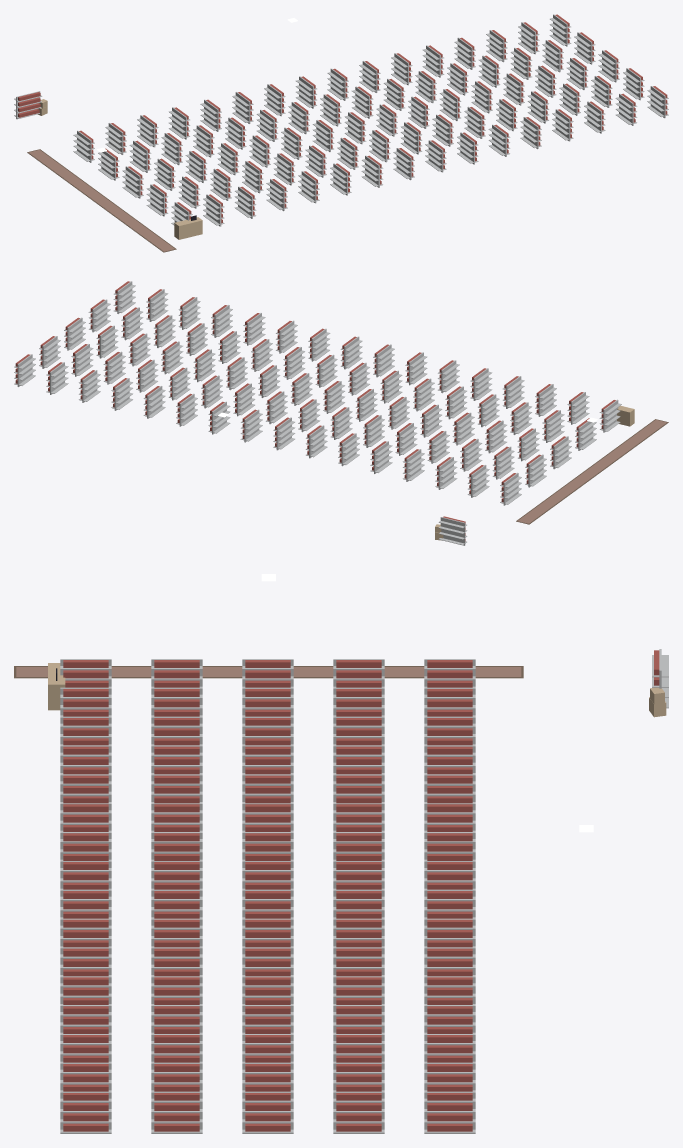
The model's file is fine-s0.glb.
3 renders of one model, top to bottom at view 1: azimuth 30°, elevation 25°; view 2: azimuth 150°, elevation 25°; view 3: azimuth 270°, elevation 25°, orthographic. The views are drawn at different scales.
Visible parts, largest first — view 1: soft-s0, shelving.000, shop-counter.000, shelf.022, shelf.051, shelf.011, shelf.031, shelf.042, shelf.053, shelf.059, shelf.062, shelf.033 (+70 smaller); view 2: soft-s0, shelving.000, shelf.006, shelf.012, shelf.043, shelf.044, shelf.018, shelf.066, shelf.067, shelf.078, shelf.001, shelf.017 (+70 smaller); view 3: soft-s0, shelf.075, shelf.076, shelf.077, shelf.078, shelf.079, shelf.005, shelf.006, shelf.007, shelf.008, shelf.009, shelf.010 (+69 smaller).
Part boxes in pixels (bbox=[...]): soft-s0: bbox=[27, 149, 176, 252]; shelving.000: bbox=[14, 91, 42, 119]; shop-counter.000: bbox=[174, 215, 202, 239]; shelf.022: bbox=[249, 135, 270, 167]; shelf.051: bbox=[415, 71, 436, 103]; shelf.011: bbox=[161, 133, 182, 165]; shelf.031: bbox=[288, 102, 309, 134]; shelf.042: bbox=[376, 104, 397, 136]; shelf.053: bbox=[464, 106, 485, 138]; shelf.059: bbox=[520, 117, 541, 149]; shelf.062: bbox=[503, 73, 524, 105]; shelf.033: bbox=[337, 137, 358, 169]; soft-s0: bbox=[516, 419, 668, 524]; shelving.000: bbox=[438, 516, 467, 545]; shelf.006: bbox=[492, 446, 514, 479]; shelf.012: bbox=[485, 420, 507, 453]; shelf.043: bbox=[315, 354, 337, 387]; shelf.044: bbox=[340, 336, 362, 369]; shelf.018: bbox=[477, 394, 499, 427]; shelf.066: bbox=[103, 351, 125, 384]; shelf.067: bbox=[128, 333, 150, 366]; shelf.078: bbox=[88, 299, 110, 332]; shelf.001: bbox=[525, 454, 546, 487]; shelf.017: bbox=[452, 412, 474, 445]; soft-s0: bbox=[14, 666, 523, 678]; shelf.075: bbox=[424, 1091, 475, 1133]; shelf.076: bbox=[333, 1091, 384, 1133]; shelf.077: bbox=[242, 1091, 293, 1133]; shelf.078: bbox=[151, 1091, 202, 1133]; shelf.079: bbox=[60, 1091, 111, 1133]; shelf.005: bbox=[424, 687, 475, 716]; shelf.006: bbox=[333, 687, 384, 716]; shelf.007: bbox=[242, 687, 293, 716]; shelf.008: bbox=[151, 687, 202, 716]; shelf.009: bbox=[60, 687, 111, 716]; shelf.010: bbox=[424, 716, 475, 745].
Bounding box in the file's own units: 39.15 × 3.7 × 23.03.
